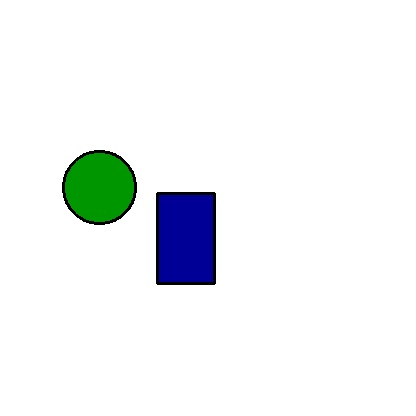circle: (63, 130, 136, 245)
rectangle: (157, 193, 214, 283)
